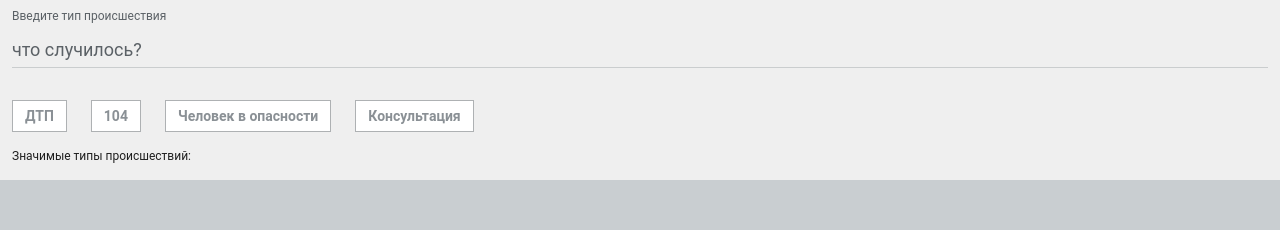
Test: TypeTabs: тип происшествия и вкладки › ошибка записи события показывается, не прячется
This screenshot has width=1280, height=230.
Type "пожар" into the dropdown.
click(640, 50); type("пожар")  # box [12,32,1268,68]
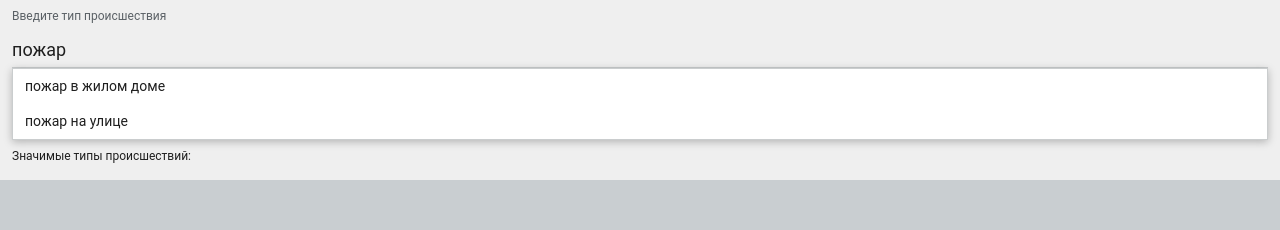
Press the mouse on the button "пожар в жилом доме" at (95, 86), box [13,69,1267,104]
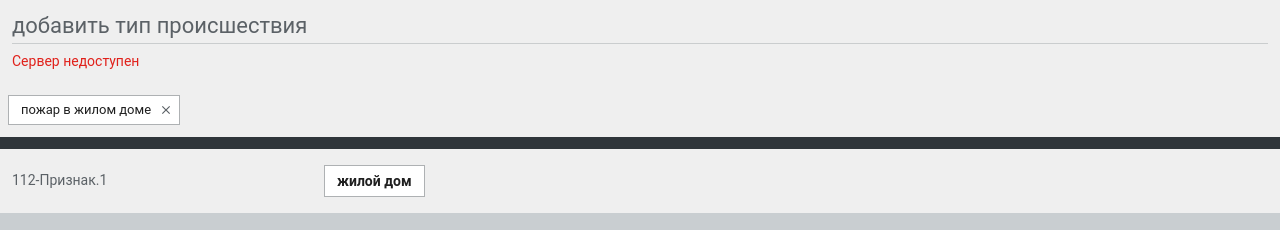
Now the message reads "Сервер недоступен", box [12,53,139,69]
